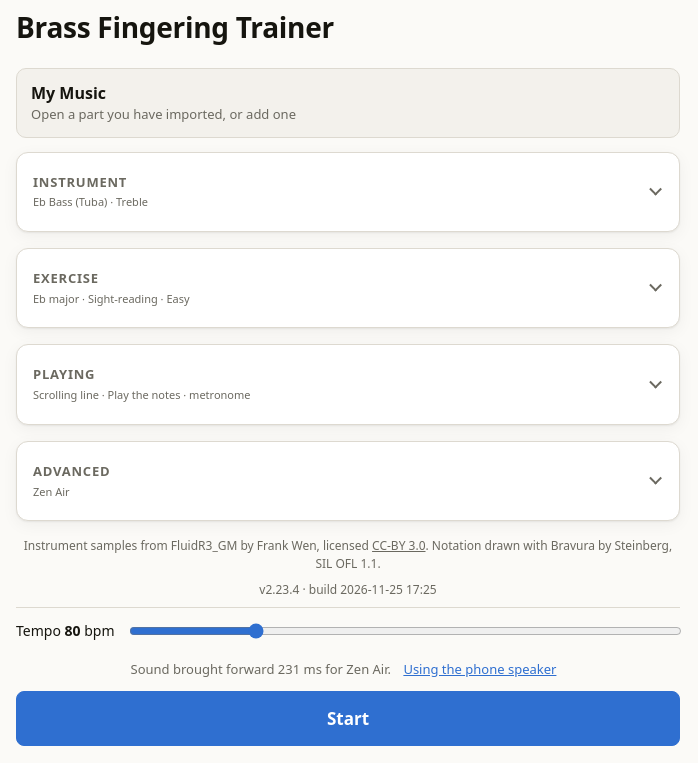
Test: headphones and speakers › says beside Start when a headset is in use, with the way back to the speaker
Expected: the text "Sound brought forward 231 ms for Zen Air" is shown, [130, 657, 565, 683]
Click the button "Using the phone speaker": [480, 670] box [394, 657, 566, 683]
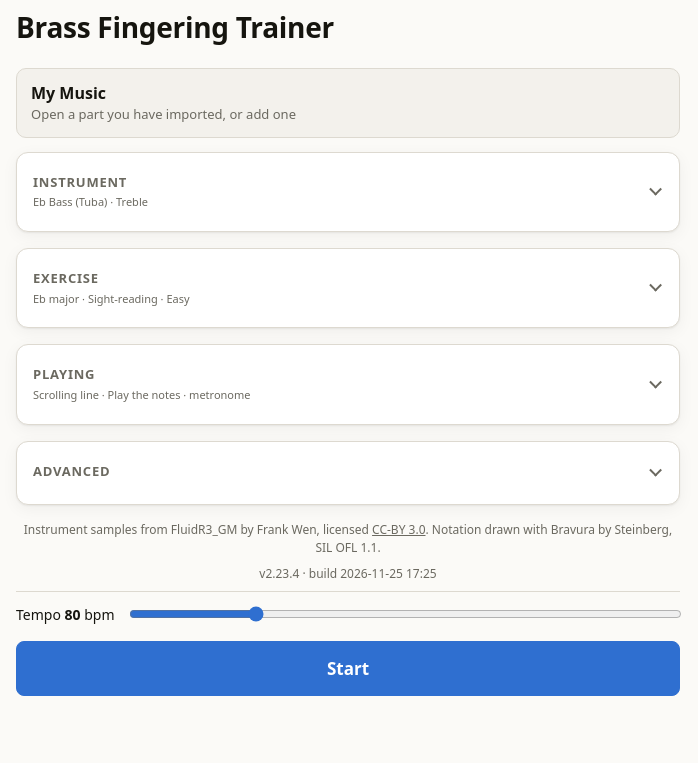
Result: the text "Sound brought forward" is gone
